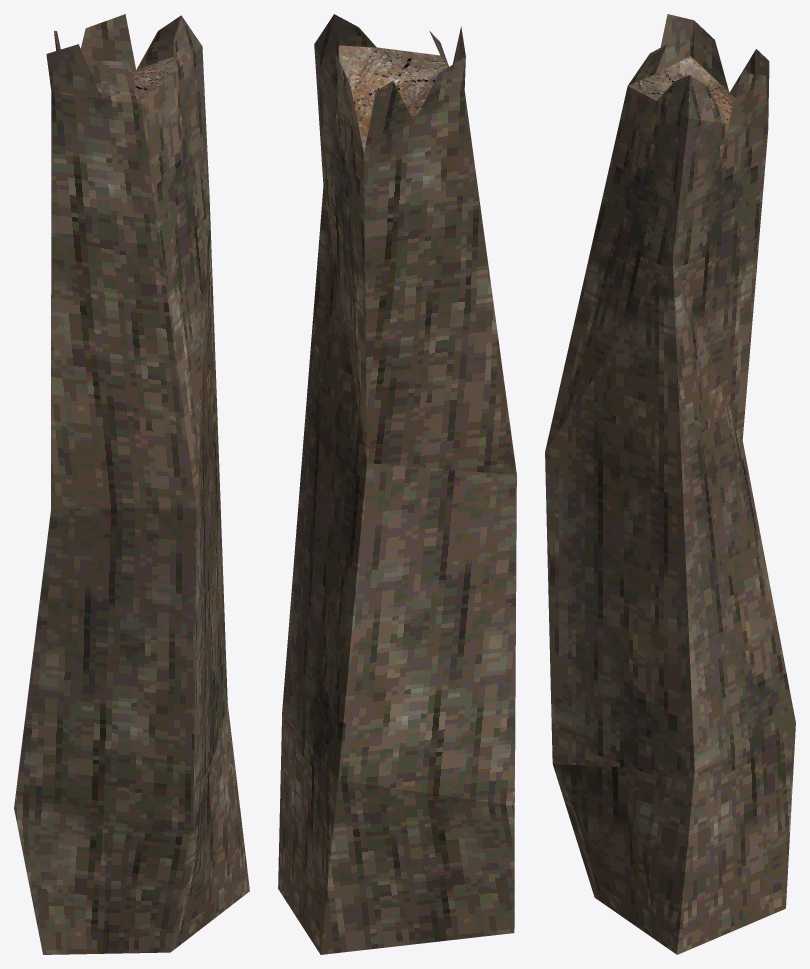
File: wooden_fence_pole_broken_large.glb
3 views of the same model, side by side, from view 1: azimuth 30°, elevation 25°; view 2: azimuth 150°, elevation 25°; view 3: azimuth 270°, elevation 25° (orthographic). The views are drawn at different scales.
Parts seen in each view (by area): view 1: wooden_fence_pole_broken_large; view 2: wooden_fence_pole_broken_large; view 3: wooden_fence_pole_broken_large.
Boxes of the visible parts, bbox=[...] form: wooden_fence_pole_broken_large: bbox=[14, 14, 249, 954]; wooden_fence_pole_broken_large: bbox=[278, 14, 516, 954]; wooden_fence_pole_broken_large: bbox=[545, 14, 795, 954].
Size of the model in its own units: 0.2664 by 0.9675 by 0.2564.
1 material, 1 textured.
